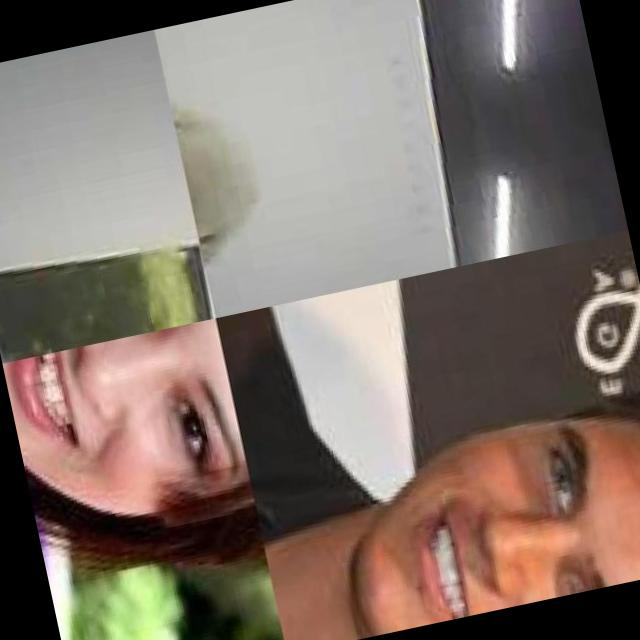bareface: (312, 393, 640, 640)
